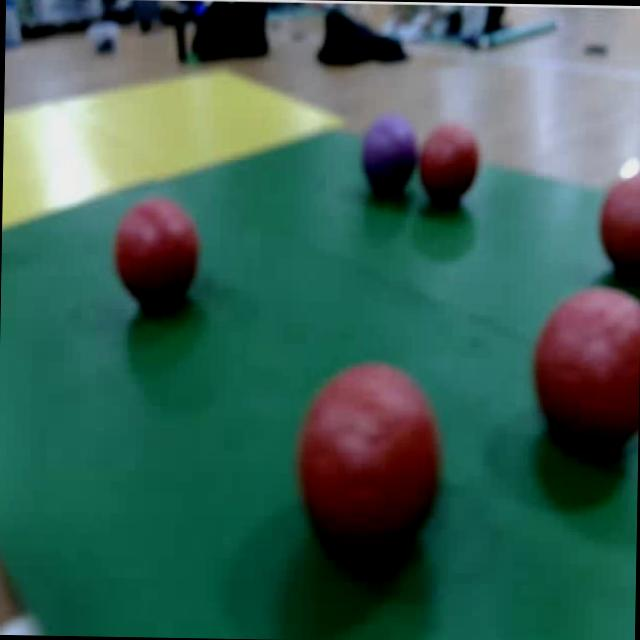blue_ball: (194, 1, 212, 28)
purple_ball: (361, 114, 418, 200)
red_ball: (289, 356, 454, 576), (527, 279, 640, 465), (111, 197, 205, 314), (418, 122, 486, 207), (598, 169, 640, 279)
